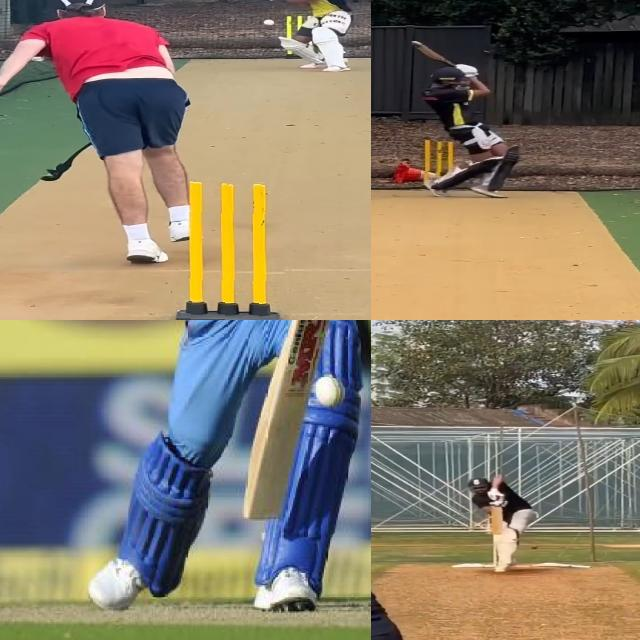Cricket ball: (314, 369, 346, 414), (261, 18, 277, 28), (531, 546, 538, 549)
Stumps: (176, 176, 286, 320), (421, 138, 456, 190)
